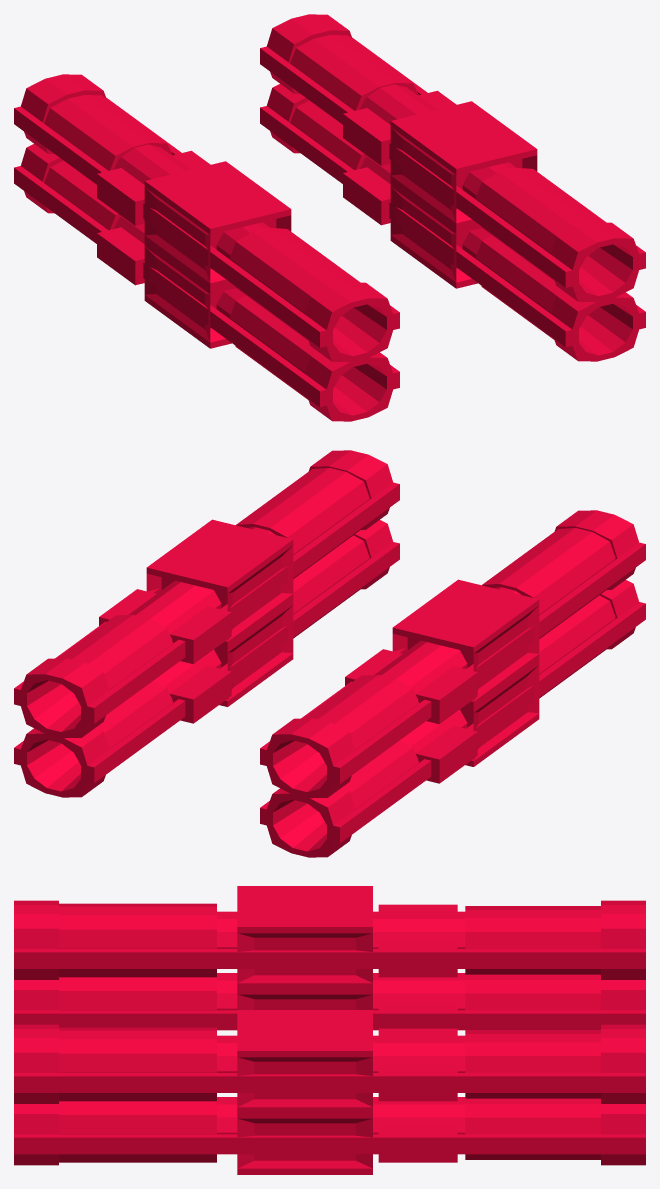
Rendered from evil apc ATGM.gltf.
3 views of the same model, one above another, from view 1: azimuth 30°, elevation 25°; view 2: azimuth 150°, elevation 25°; view 3: azimuth 270°, elevation 25° (orthographic). The views are drawn at different scales.
Visible parts, largest first — view 1: ATGM (×4); view 2: ATGM (×4); view 3: ATGM (×4).
Boxes of the visible parts, bbox=[...] form: ATGM (×4): bbox=[14, 14, 645, 421]; ATGM (×4): bbox=[14, 450, 645, 857]; ATGM (×4): bbox=[14, 886, 645, 1174].
Size of the model in its own units: 1.12 by 0.3834 by 1.75.
Materials: 1 (1 with a texture image).
